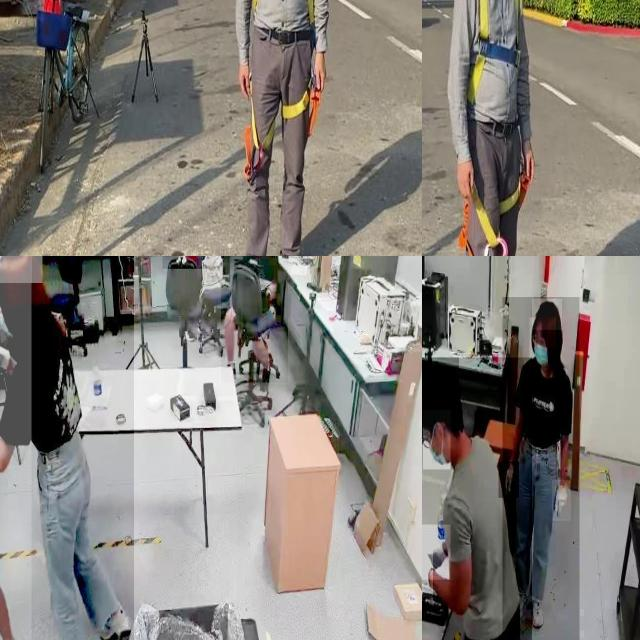Harness: (245, 75, 320, 182), (468, 0, 520, 104), (474, 187, 509, 256)
face_mask: (423, 410, 451, 469), (530, 318, 556, 367)
hand_glove: (422, 524, 450, 579), (552, 480, 572, 522), (499, 461, 519, 498), (0, 331, 12, 386), (422, 542, 433, 600)
head_nohelmet: (422, 357, 459, 406), (0, 256, 43, 284), (532, 299, 562, 331)
person: (0, 256, 134, 640), (422, 357, 532, 640), (502, 297, 579, 640), (221, 256, 288, 383)
shoes: (95, 594, 134, 640), (526, 586, 548, 632)
